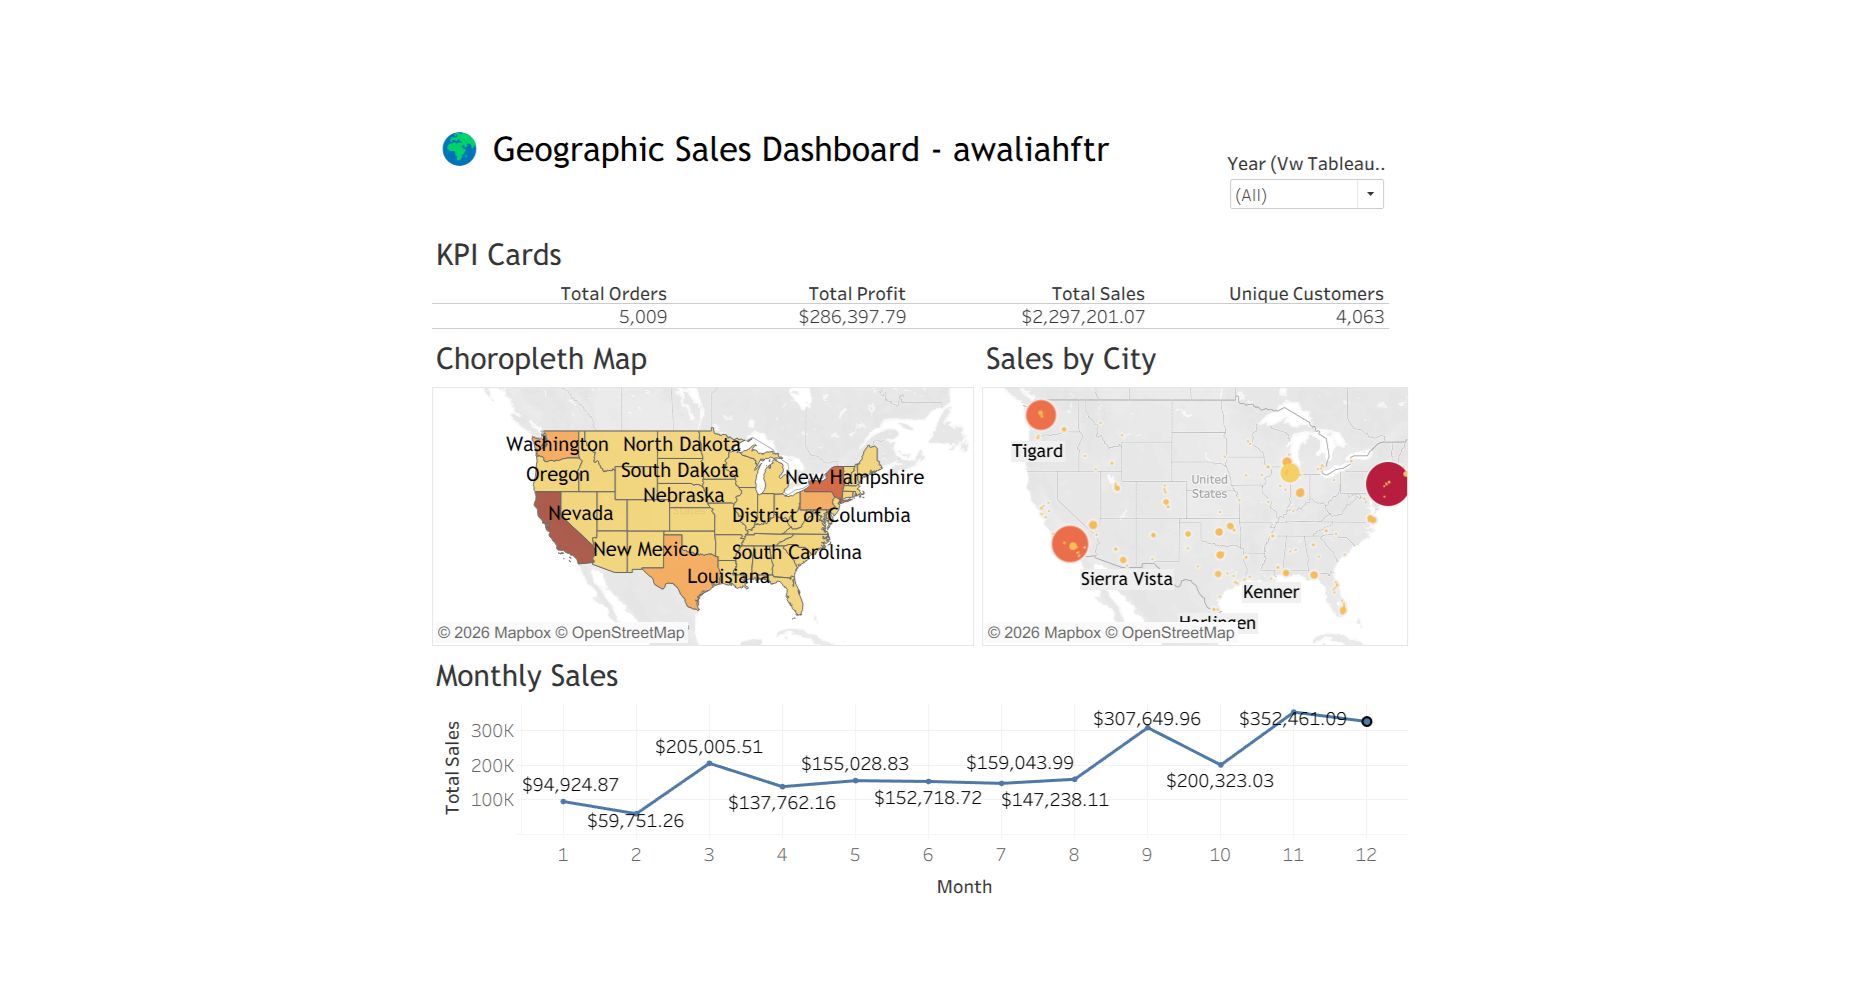

What the dashboard file says about the page in this screenshot:
{"tool":"tableau","page":{"name":"Dashboard 1","canvas":[1000,800],"ordinal":0},"visuals":[{"type":"title","box":[8,8,984,104]},{"type":"filter","title":"Choropleth Map","param":"[federated.0h1q2u90e9vssh16kchiu080ap1p].[none:year (vw_tableau_geo):ok]","box":[807,33,160,62]},{"type":"worksheet","title":"KPI Cards","mark":"Automatic","box":[8,112,984,104]},{"type":"worksheet","title":"Choropleth Map","mark":"Automatic","box":[8,216,550,317]},{"type":"worksheet","title":"Sales by City","mark":"Automatic","box":[558,216,434,317]},{"type":"worksheet","title":"Monthly Sales","mark":"Automatic","rows":["total_sales (vw_monthly_trend)"],"cols":["month"],"box":[8,533,984,259]}]}

Visuals, with their boxes on the page's 1000x800 design canvas (x1, y1, x2, y2). These are canvas units, not pixel positions in the 1853x1000 screenshot, which may show the page scaled, cropped or inside an application window:
title: detection(8, 8, 992, 112)
"Choropleth Map" filter: detection(807, 33, 967, 95)
"KPI Cards" worksheet: detection(8, 112, 992, 216)
"Choropleth Map" worksheet: detection(8, 216, 558, 533)
"Sales by City" worksheet: detection(558, 216, 992, 533)
"Monthly Sales" worksheet: detection(8, 533, 992, 792)
